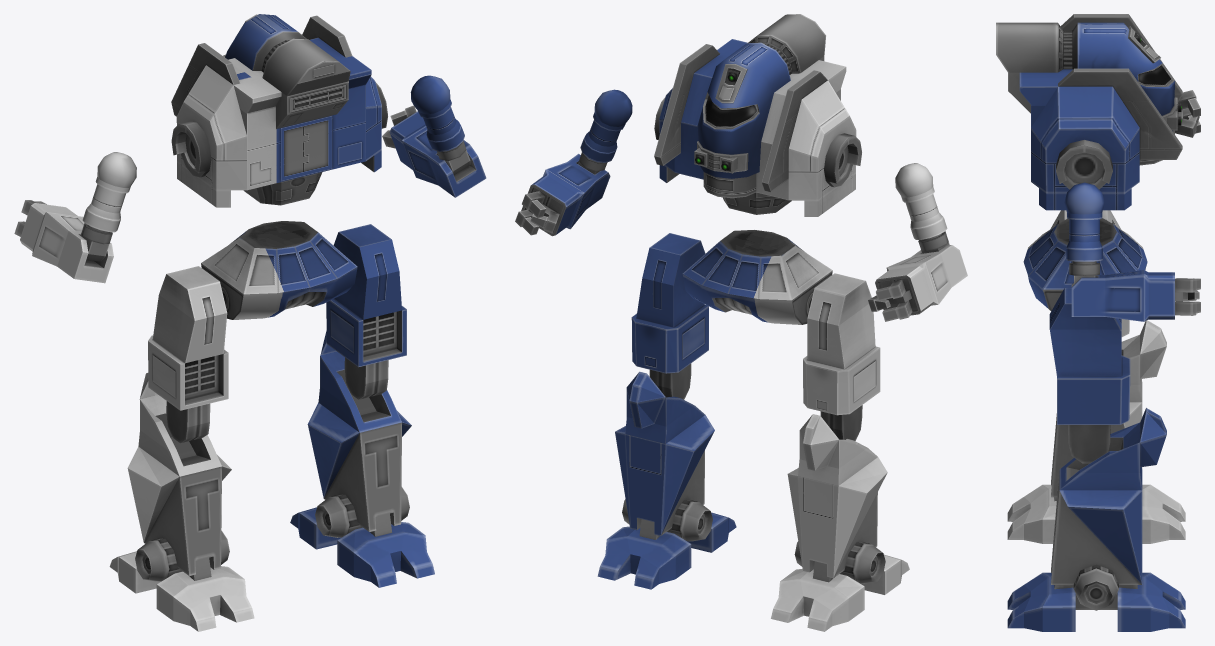
Rendered from Dart_ex.FBX.
3 views of the same model, side by side, from view 1: azimuth 30°, elevation 25°; view 2: azimuth 150°, elevation 25°; view 3: azimuth 270°, elevation 25° (orthographic). The views are drawn at different scales.
Parts seen in each view (by area): view 1: torso, rlowerleg, llowerleg, rupperleg, pelvis, lupperleg, rlowerarm, rbacktoes, lbacktoes, llowerarm, rupperarm, lupperarm (+2 smaller); view 2: torso, llowerleg, rlowerleg, rupperleg, pelvis, lupperleg, rlowerarm, llowerarm, lfronttoes, rfronttoes, rupperarm, lupperarm (+2 smaller); view 3: torso, llowerleg, lupperleg, llowerarm, pelvis, rlowerleg, lfronttoes, lbacktoes, lupperarm, rbacktoes, rfronttoes, rlowerarm (+2 smaller).
Boxes of the visible parts, x1=… form: torso: x1=171, y1=14, x2=387, y2=207; rlowerleg: x1=127, y1=373, x2=231, y2=581; llowerleg: x1=307, y1=331, x2=411, y2=537; rupperleg: x1=148, y1=266, x2=228, y2=443; pelvis: x1=201, y1=221, x2=357, y2=319; lupperleg: x1=326, y1=224, x2=406, y2=399; rlowerarm: x1=14, y1=200, x2=113, y2=283; rbacktoes: x1=156, y1=566, x2=254, y2=631; lbacktoes: x1=337, y1=522, x2=434, y2=587; llowerarm: x1=382, y1=105, x2=486, y2=197; rupperarm: x1=80, y1=152, x2=136, y2=261; lupperarm: x1=410, y1=75, x2=470, y2=174; torso: x1=654, y1=14, x2=861, y2=216; llowerleg: x1=615, y1=371, x2=714, y2=541; rlowerleg: x1=787, y1=414, x2=887, y2=583; rupperleg: x1=803, y1=273, x2=880, y2=440; pelvis: x1=682, y1=230, x2=832, y2=324; lupperleg: x1=631, y1=233, x2=708, y2=399; rlowerarm: x1=868, y1=245, x2=967, y2=321; llowerarm: x1=515, y1=153, x2=610, y2=236; lfronttoes: x1=597, y1=526, x2=691, y2=589; rfronttoes: x1=771, y1=568, x2=864, y2=631; rupperarm: x1=895, y1=163, x2=949, y2=253; lupperarm: x1=578, y1=89, x2=632, y2=174; torso: x1=996, y1=14, x2=1182, y2=210; llowerleg: x1=1051, y1=408, x2=1166, y2=610; lupperleg: x1=1049, y1=288, x2=1130, y2=463; llowerarm: x1=1071, y1=270, x2=1200, y2=321; pelvis: x1=1023, y1=218, x2=1147, y2=310; rlowerleg: x1=1051, y1=320, x2=1166, y2=497; lfronttoes: x1=1117, y1=572, x2=1185, y2=631; lbacktoes: x1=1007, y1=572, x2=1075, y2=631; lupperarm: x1=1064, y1=182, x2=1104, y2=284; rbacktoes: x1=1007, y1=484, x2=1056, y2=543; rfronttoes: x1=1142, y1=484, x2=1185, y2=543; rlowerarm: x1=1173, y1=90, x2=1200, y2=137.
Bounding box in the file's own units: 44.5 × 54.71 × 18.62.
Materials: 1 (1 with a texture image).
